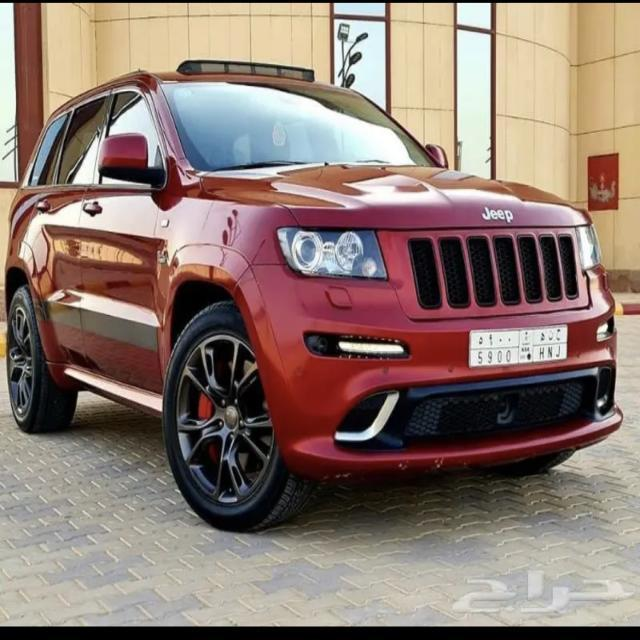license_plate: (468, 326, 570, 368)
